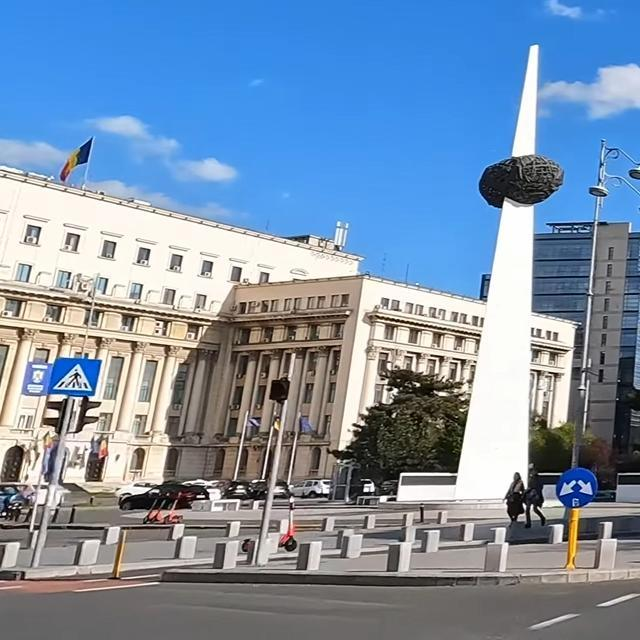info_crosswalk: (49, 356, 102, 396)
